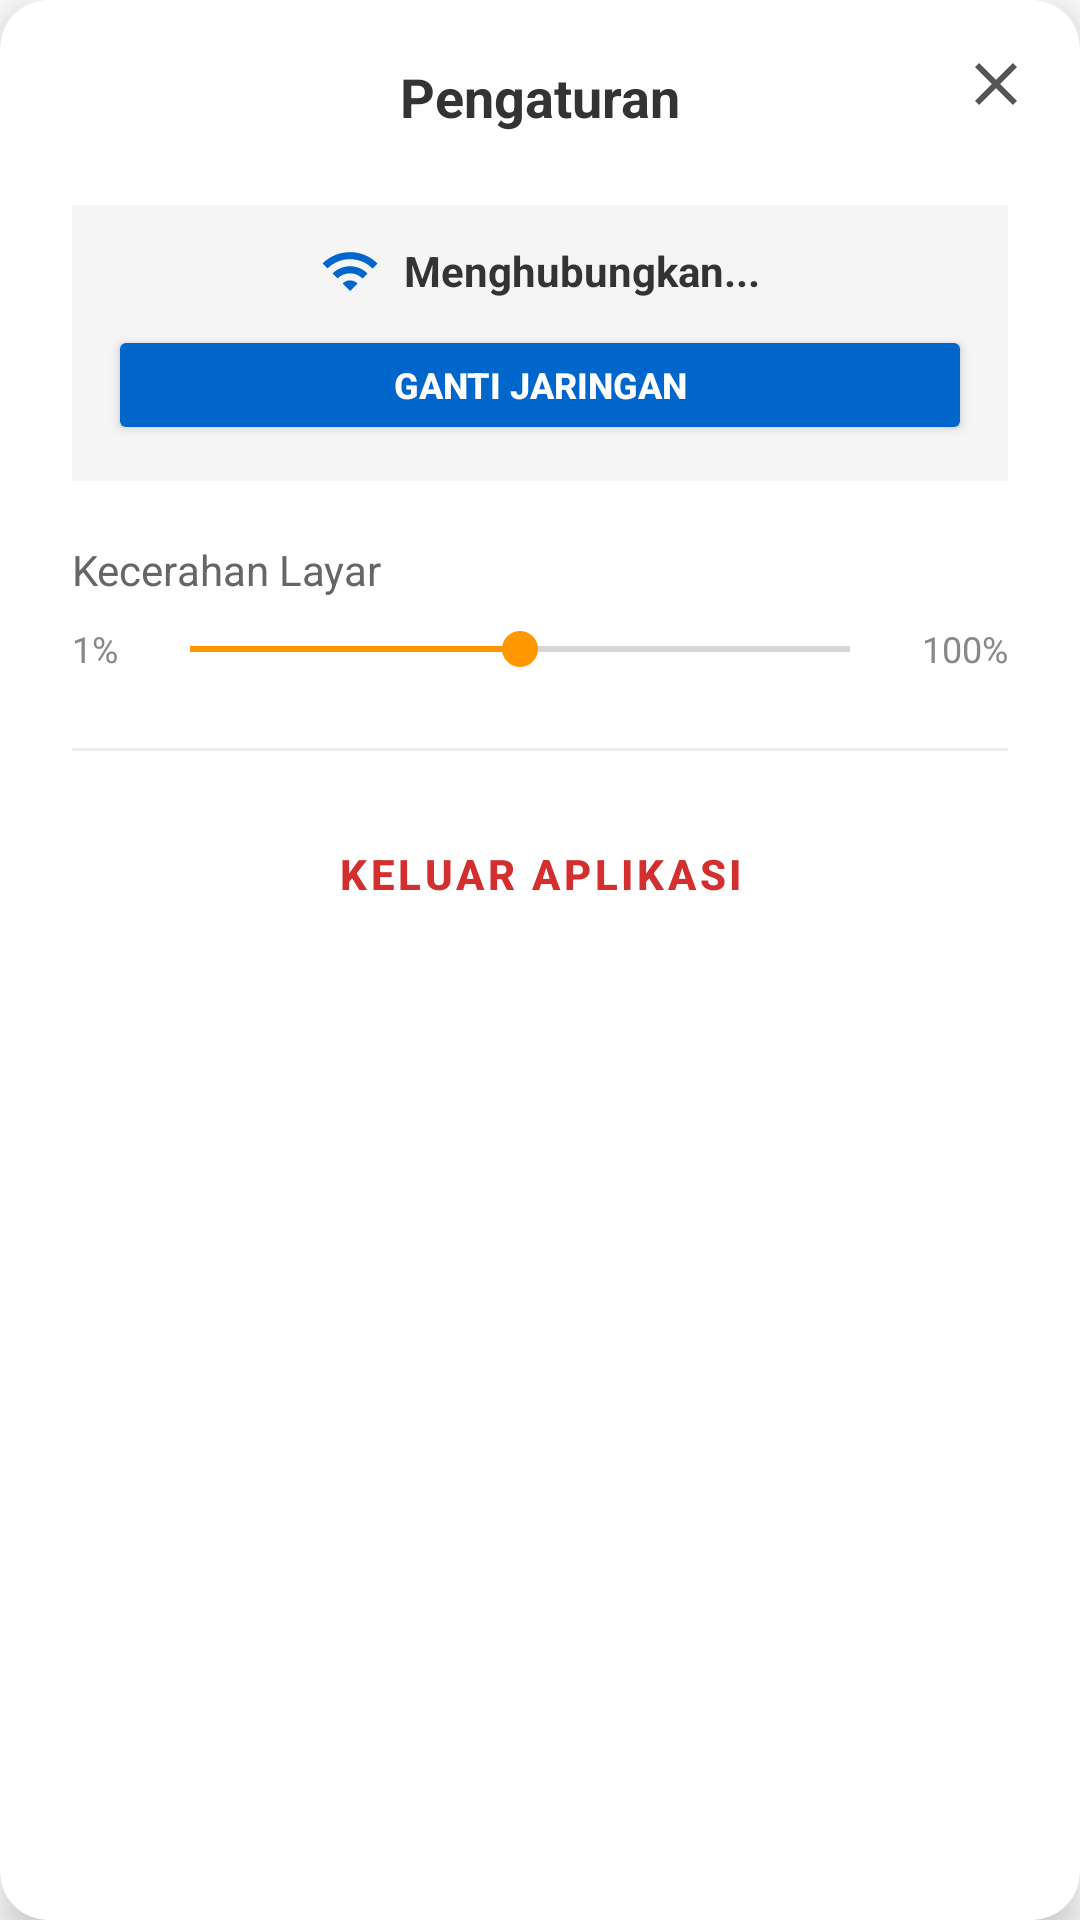

Where to tap for icons on this 1080 x 1920 app screen, as (x=x, y=y):
Tutup: (x=996, y=84)
wifi: (x=350, y=271)
